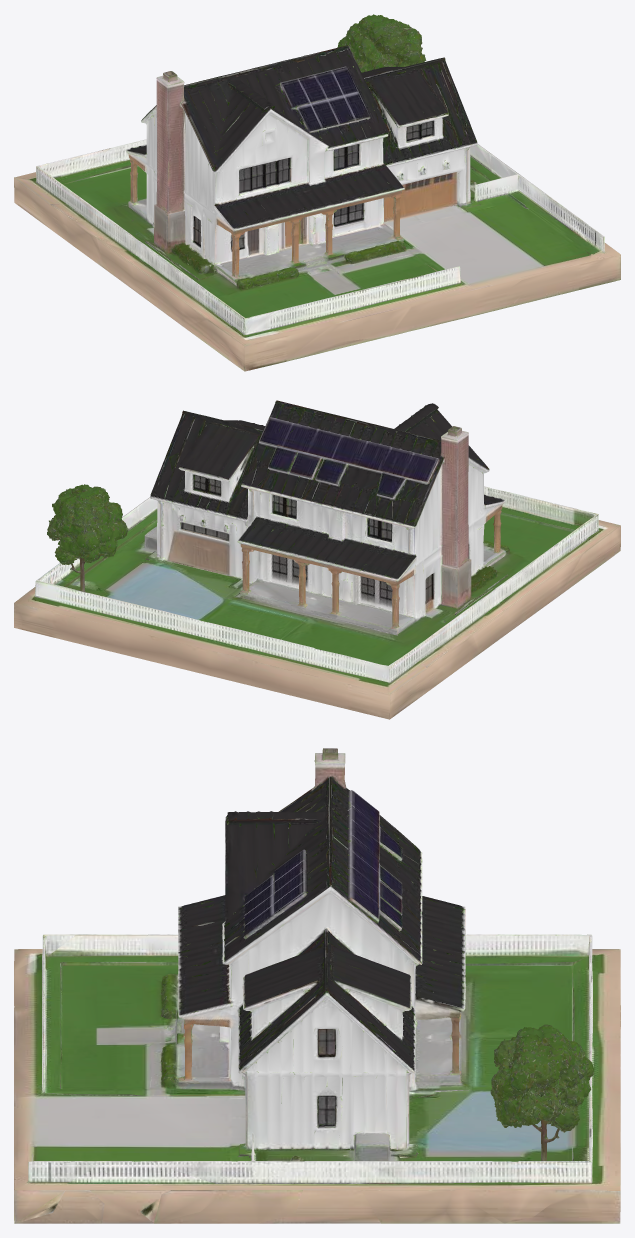
The model's file is house.glb.
3 views of the same model, one above another, from view 1: azimuth 30°, elevation 25°; view 2: azimuth 150°, elevation 25°; view 3: azimuth 270°, elevation 25° (orthographic). The views are drawn at different scales.
Visible parts, largest first — view 1: Mesh_0; view 2: Mesh_0; view 3: Mesh_0.
Part boxes in pixels (<box>): Mesh_0: <box>14,14,620,371</box>; Mesh_0: <box>14,400,620,719</box>; Mesh_0: <box>14,748,620,1223</box>.
Size of the model in its own units: 1.8 by 0.9099 by 1.91.
Materials: 1 (1 with a texture image).
